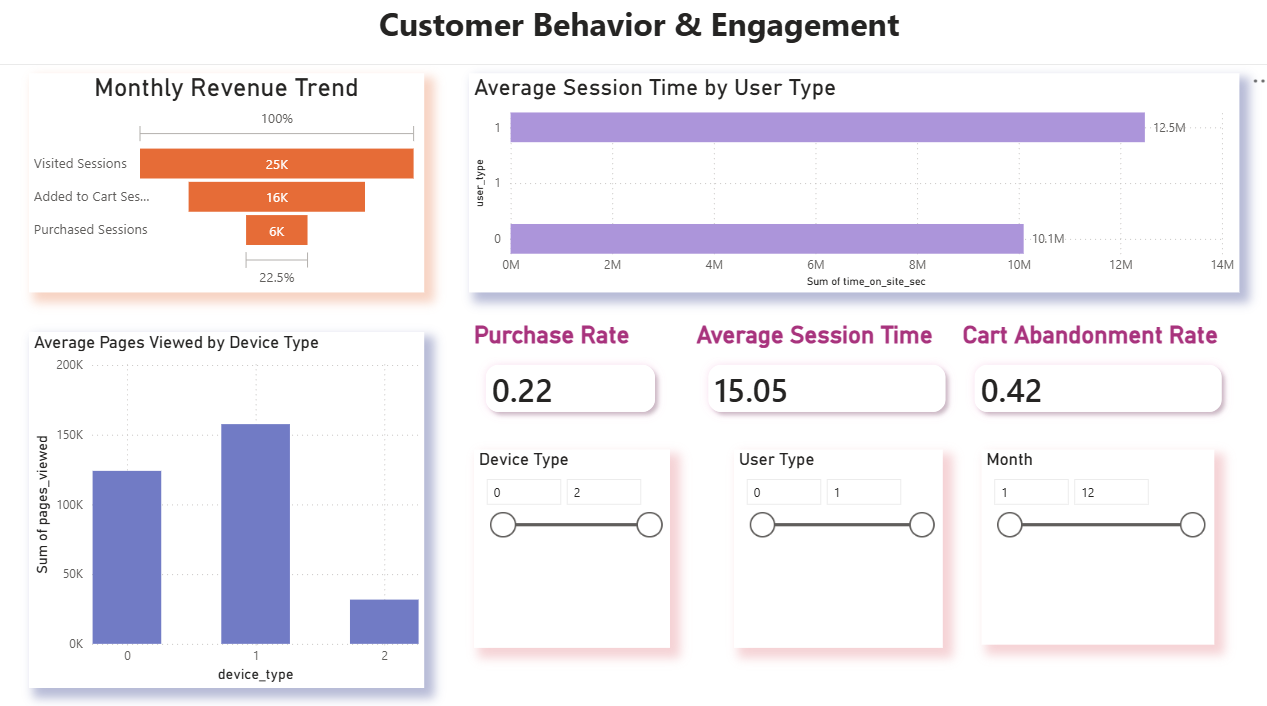

What the dashboard file says about the page in this screenshot:
{"tool":"powerbi","page":{"name":"Customer Behavior & Engagement","canvas":[1280,720],"ordinal":2},"visuals":[{"type":"textbox","box":[0,0,1280.5,67.9],"z":0},{"type":"cardVisual","title":"Average Session Time","fields":{"Data":["indian_ecommerce_cleaned.Average Session Time (Min)"]},"box":[692.2,323.4,271.4,109.1],"z":1000},{"type":"cardVisual","title":"Cart Abandonment Rate","fields":{"Data":["indian_ecommerce_cleaned.Cart Abandonment Rate"]},"box":[958.4,323.4,281.8,109.1],"z":2000},{"type":"cardVisual","title":"Purchase Rate","fields":{"Data":["indian_ecommerce_cleaned.Purchase Rate"]},"box":[470.1,323.4,203.9,109.1],"z":3000},{"type":"funnel","title":"Monthly Revenue Trend","fields":{"Y":["indian_ecommerce_cleaned.Visited Sessions","indian_ecommerce_cleaned.Added to Cart Sessions","indian_ecommerce_cleaned.Purchased Sessions"]},"box":[29.9,76.6,394.8,219.5],"z":4000},{"type":"slicer","title":"Month","fields":{"Values":["indian_ecommerce_cleaned.visit_month"]},"box":[983.1,452,232.5,194.8],"z":5000},{"type":"slicer","title":"Device Type","fields":{"Values":["indian_ecommerce_cleaned.device_type"]},"box":[475.3,452,196.1,198.7],"z":6000},{"type":"slicer","title":"User Type","fields":{"Values":["indian_ecommerce_cleaned.user_type"]},"box":[735.1,452,209.1,198.7],"z":7000},{"type":"clusteredBarChart","title":"Average Session Time by User Type","fields":{"Category":["indian_ecommerce_cleaned.user_type"],"Y":["Sum(indian_ecommerce_cleaned.time_on_site_sec)"]},"box":[470.1,76.6,770.1,219.5],"z":8000},{"type":"clusteredColumnChart","title":"Average Pages Viewed by Device Type","fields":{"Category":["indian_ecommerce_cleaned.device_type"],"Y":["Sum(indian_ecommerce_cleaned.pages_viewed)"]},"box":[29.9,335.1,394.8,355.8],"z":9000}]}

Visuals, with their boxes in screenshot pixels (x1, y1, x2, y2), scaled from the page's 1280x720 canvas onto the 1267x706 screenshot:
textbox: {"left": 0, "top": 0, "right": 1266, "bottom": 67}
"Average Session Time" cardVisual: {"left": 685, "top": 317, "right": 954, "bottom": 424}
"Cart Abandonment Rate" cardVisual: {"left": 949, "top": 317, "right": 1228, "bottom": 424}
"Purchase Rate" cardVisual: {"left": 465, "top": 317, "right": 667, "bottom": 424}
"Monthly Revenue Trend" funnel: {"left": 30, "top": 75, "right": 420, "bottom": 290}
"Month" slicer: {"left": 973, "top": 443, "right": 1203, "bottom": 634}
"Device Type" slicer: {"left": 470, "top": 443, "right": 665, "bottom": 638}
"User Type" slicer: {"left": 728, "top": 443, "right": 935, "bottom": 638}
"Average Session Time by User Type" clusteredBarChart: {"left": 465, "top": 75, "right": 1228, "bottom": 290}
"Average Pages Viewed by Device Type" clusteredColumnChart: {"left": 30, "top": 329, "right": 420, "bottom": 677}
